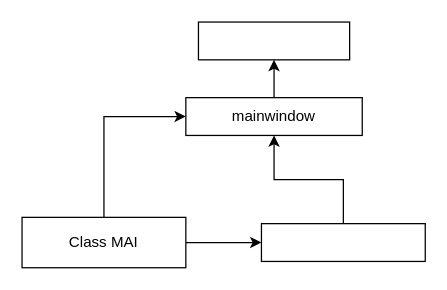
This 447x290 diagram has some shape labels left out. Here are the shapes that lost their labels. From the top down, the box of each, then its label:
(197, 21, 350, 60): main.cpp
(260, 222, 425, 261): appLog
